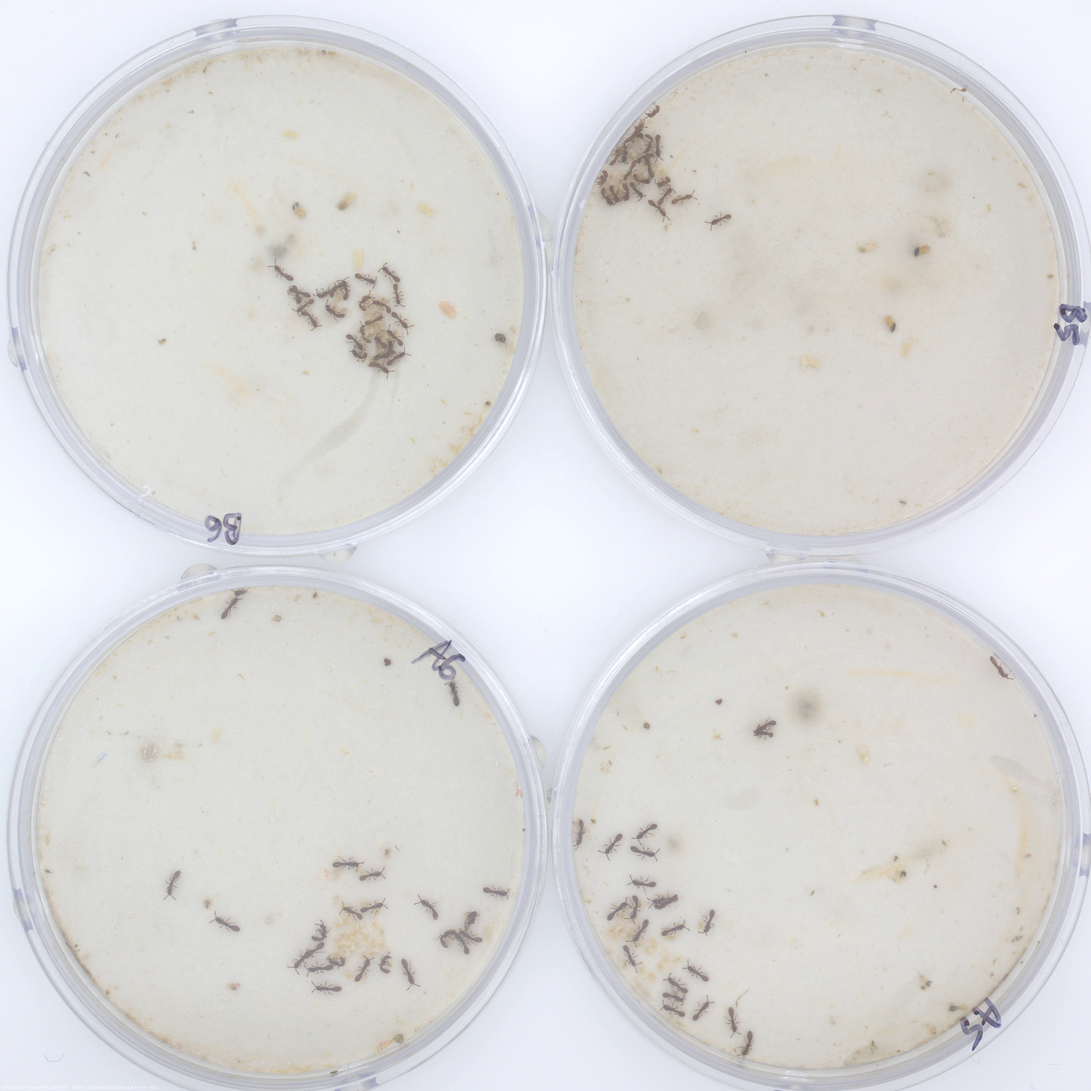brood: (603, 900, 689, 975), (596, 132, 673, 209), (329, 896, 387, 959), (355, 293, 395, 369), (322, 281, 356, 319), (636, 965, 659, 986), (342, 965, 367, 982), (663, 930, 680, 942), (699, 914, 709, 932)
